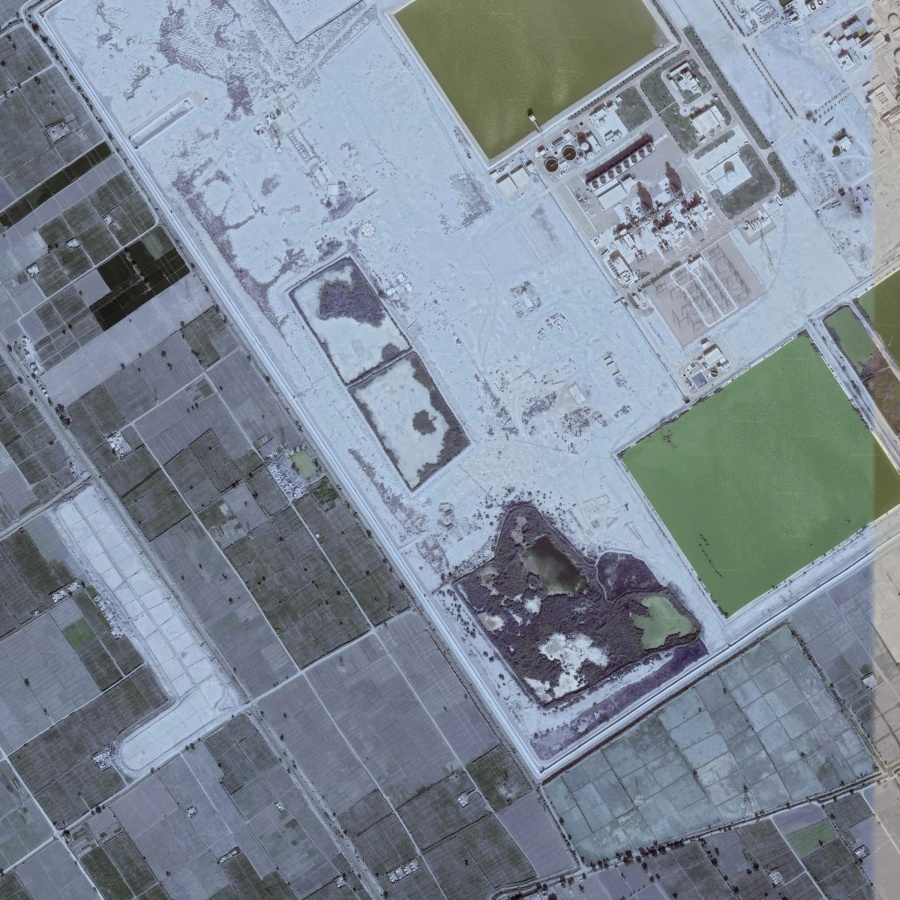PowerPlant: (541, 58, 783, 379)
